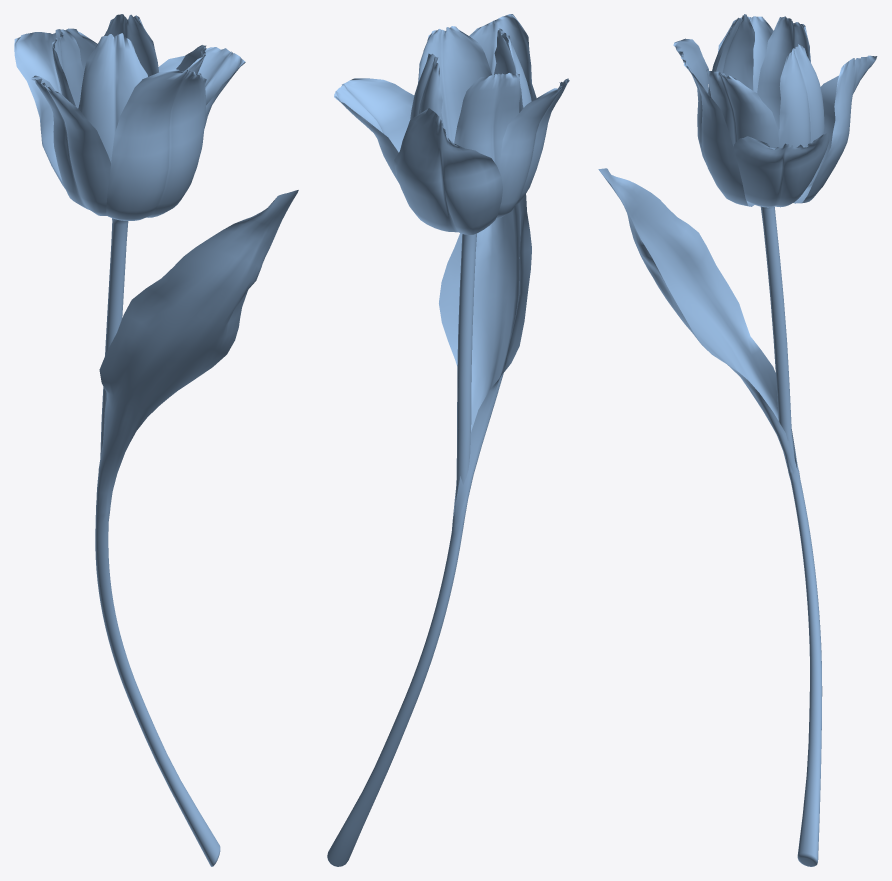
Rendered from flower.glb.
3 views of the same model, side by side, from view 1: azimuth 30°, elevation 25°; view 2: azimuth 150°, elevation 25°; view 3: azimuth 270°, elevation 25° (orthographic). The views are drawn at different scales.
Visible parts, largest first — view 1: Obj3d66_1010638_17_95_Obj3d66_1010638_17_95; view 2: Obj3d66_1010638_17_95_Obj3d66_1010638_17_95; view 3: Obj3d66_1010638_17_95_Obj3d66_1010638_17_95.
Part boxes in pixels (<box>): Obj3d66_1010638_17_95_Obj3d66_1010638_17_95: <box>14,14,298,866</box>; Obj3d66_1010638_17_95_Obj3d66_1010638_17_95: <box>327,14,569,866</box>; Obj3d66_1010638_17_95_Obj3d66_1010638_17_95: <box>598,14,877,866</box>.
Bounding box in the file's own units: 10.2 × 39.28 × 12.55.
